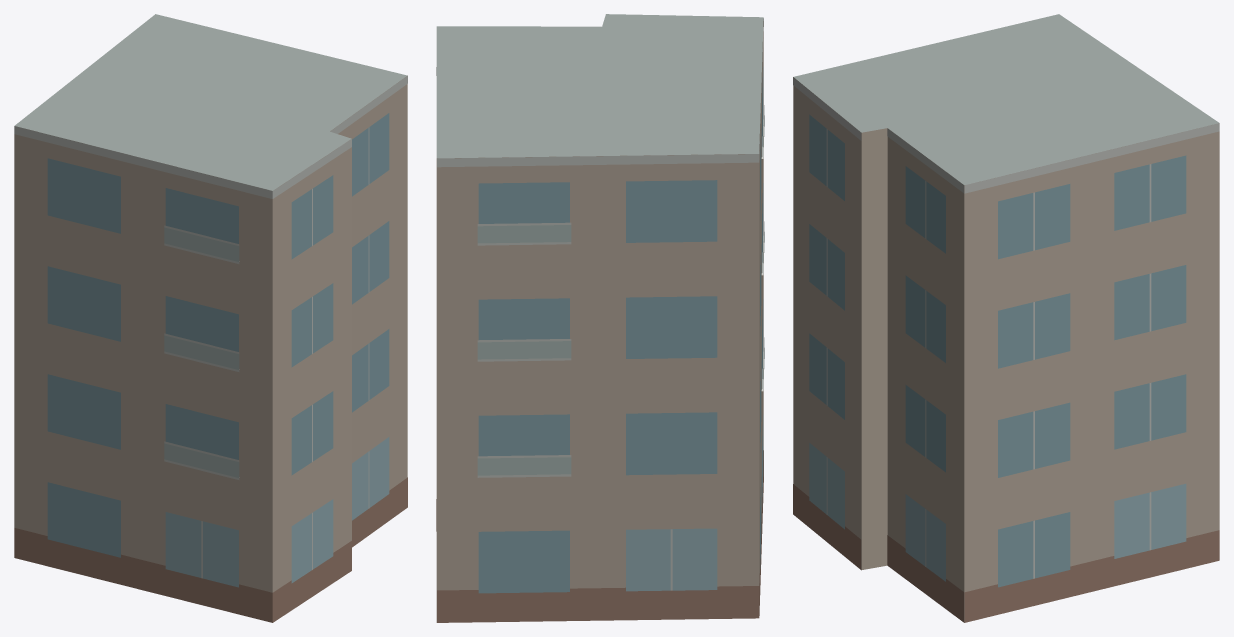
The model's file is survey-upis-32685488.glb.
3 renders of one model, left to right at view 1: azimuth 30°, elevation 25°; view 2: azimuth 150°, elevation 25°; view 3: azimuth 270°, elevation 25°, orthographic. The views are drawn at different scales.
Visible parts, largest first — view 1: survey-upis-32685488.tmp; view 2: survey-upis-32685488.tmp; view 3: survey-upis-32685488.tmp.
Boxes of the visible parts, left/top/right/bottom form: survey-upis-32685488.tmp: left=14, top=14, right=407, bottom=622; survey-upis-32685488.tmp: left=436, top=14, right=764, bottom=622; survey-upis-32685488.tmp: left=793, top=14, right=1219, bottom=622.
Bounding box in the file's own units: 10.76 × 12.8 × 11.32.
